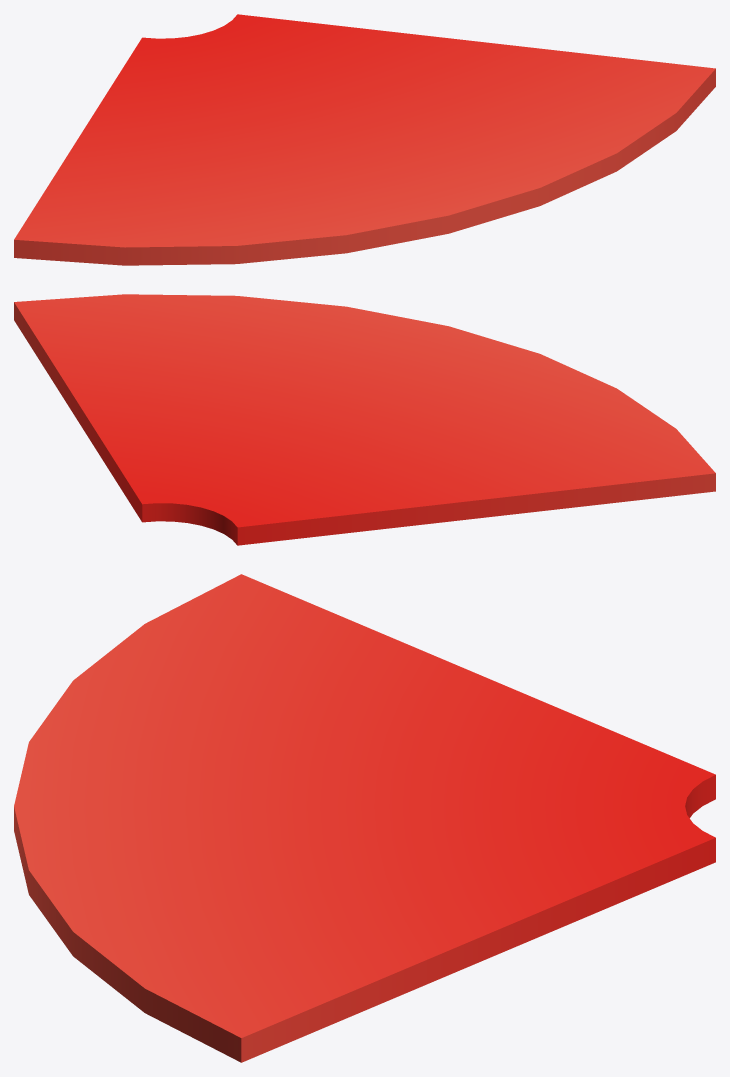
Rendered from radar.fbx.
3 views of the same model, one above another, from view 1: azimuth 30°, elevation 25°; view 2: azimuth 150°, elevation 25°; view 3: azimuth 270°, elevation 25° (orthographic). The views are drawn at different scales.
Parts seen in each view (by area): view 1: radar; view 2: radar; view 3: radar.
Part boxes in pixels (x1,y1,x2,y2): radar: (14, 14, 715, 265); radar: (14, 294, 715, 545); radar: (14, 574, 715, 1062).
Bounding box in the file's own units: 141 × 3.5 × 90.4.
